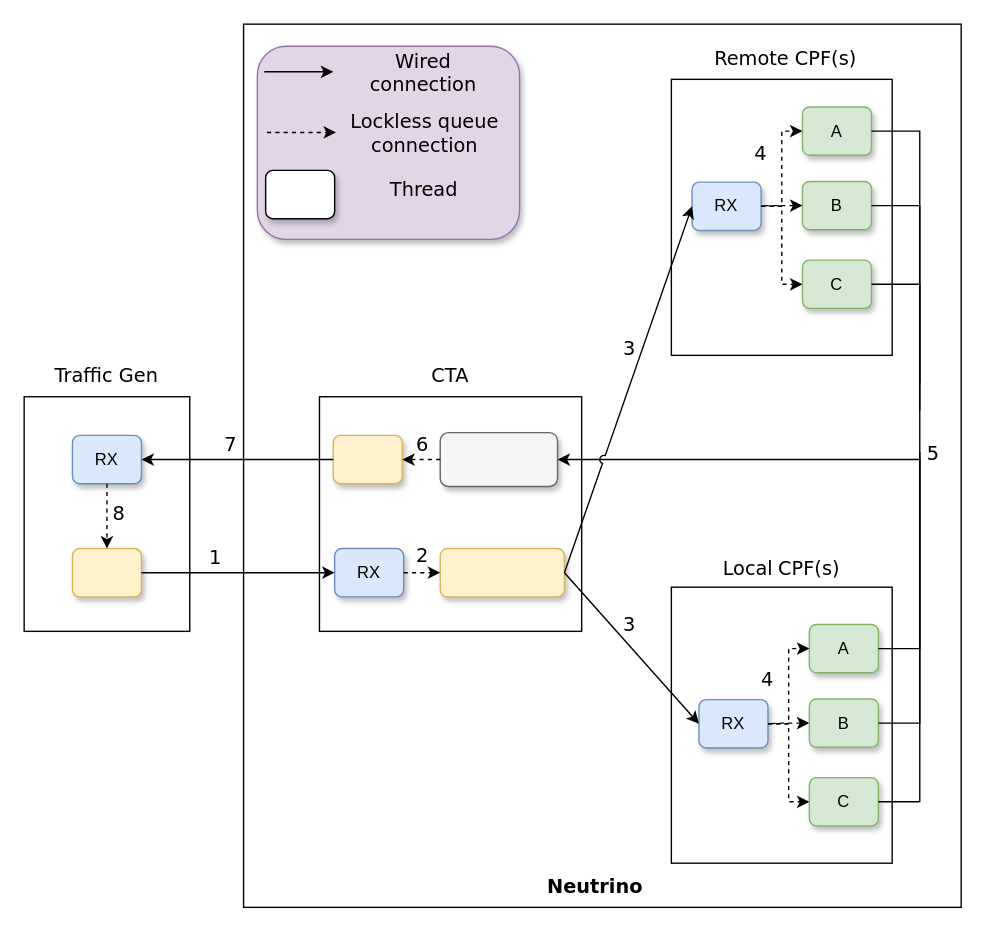
This 1007x932 diagram has some shape labels left out. The shapes that lost their labels are listed below. From the top down, each one's centre as x and y in pixels, then its label:
pixel 368 460: TX
pixel 499 461: CPF_CTA_RX
pixel 108 574: TX Worker
pixel 503 574: CTA_CPF_TX1
